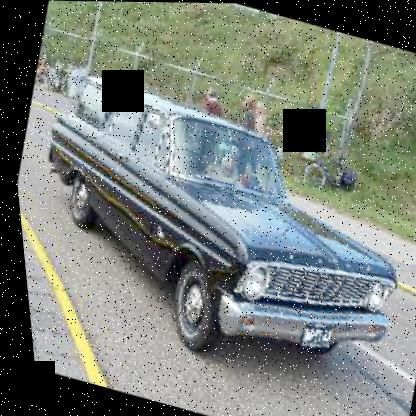not_emergency: (4, 56, 415, 407)
